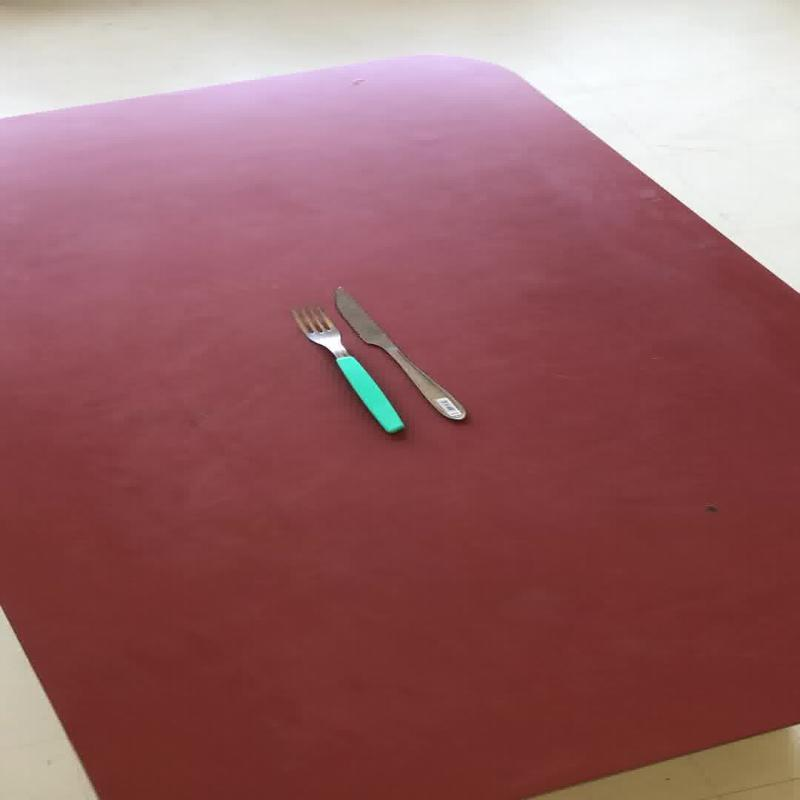fork: (288, 305, 404, 434)
knife: (331, 284, 466, 420)
